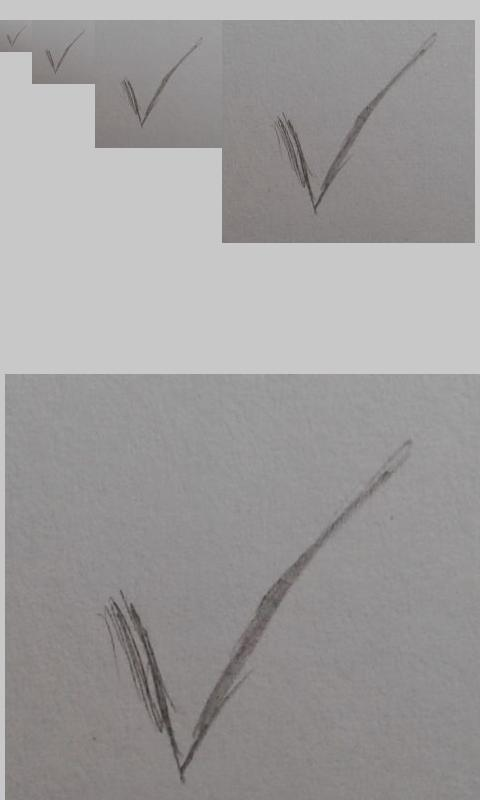check_box: (103, 446, 408, 783), (274, 38, 430, 215), (122, 42, 199, 128), (45, 30, 83, 75), (6, 25, 26, 48)
